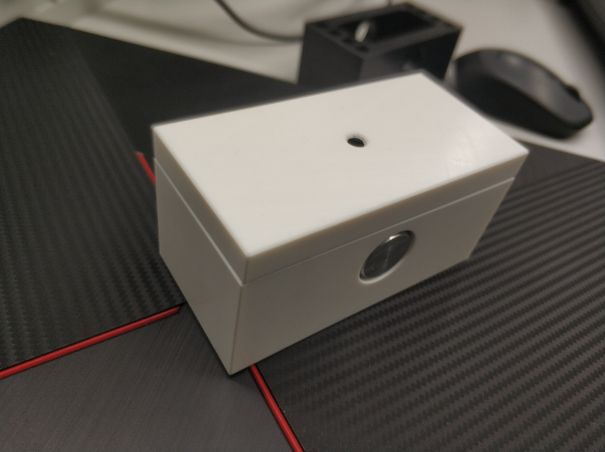white+white+silver: (145, 66, 532, 380)
